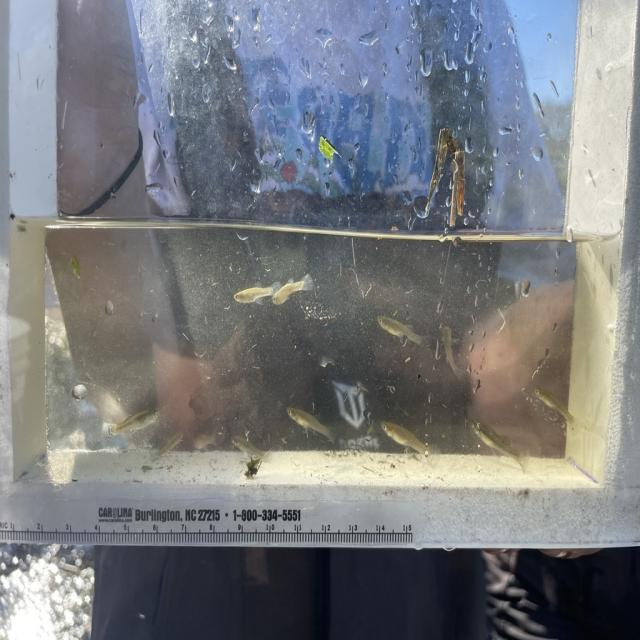Sivrisinek Baligi: (269, 387, 339, 447), (464, 408, 524, 474), (376, 410, 440, 470), (371, 302, 425, 353), (532, 379, 577, 437), (99, 402, 164, 439), (433, 317, 467, 377), (270, 270, 316, 311), (228, 278, 280, 311)
